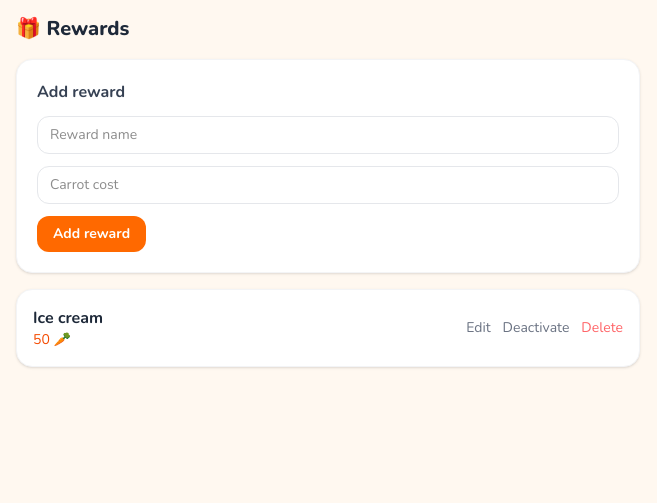
Test case: RewardManager errors › clears errors when changing the edit Reward name
Expected: the text "Ice cream" is shown, [33,307,103,329]
Type "Screen time" into the field with placeholder "Reward name" at (328, 135), box [37,116,619,154]
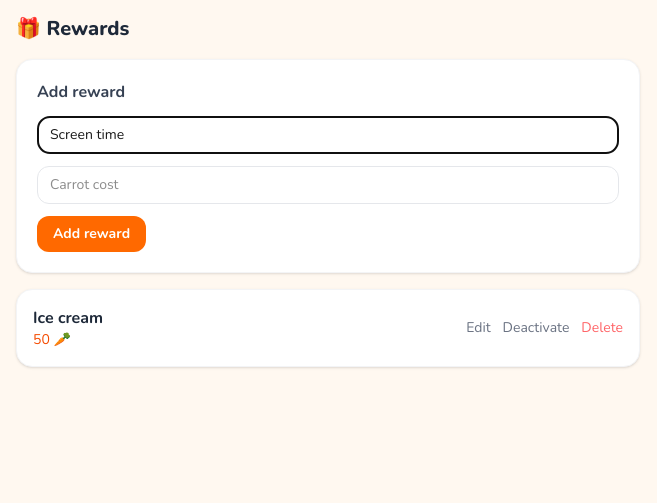
Type "20" into the number field with placeholder "Carrot cost" at (328, 185), box [37,166,619,204]
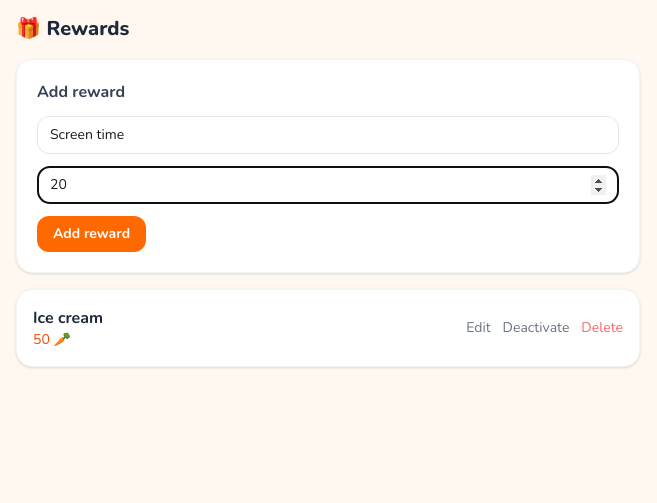
Click the button "Edit" at (478, 328), box [466,318,491,338]
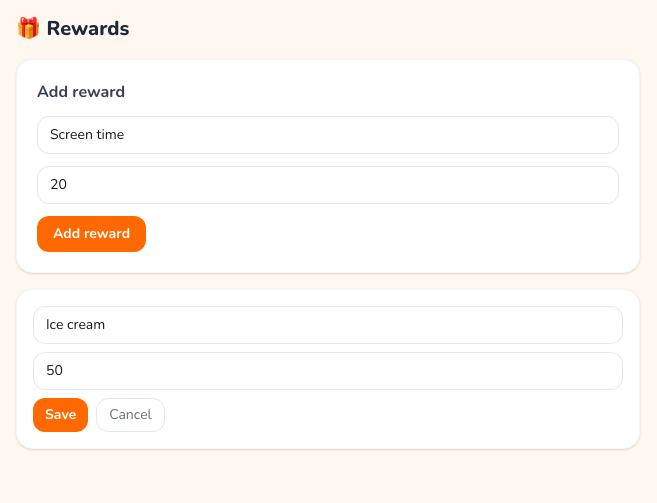
Click the button "Add reward" at (92, 234), box [37,216,146,252]
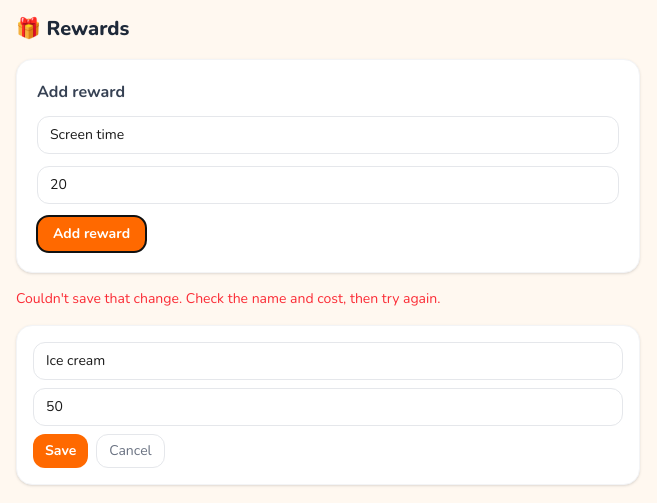
Expected: the message "Couldn't save that change. Check the name and cost, then try again." is shown, [16,289,440,308]
Clear the field named "Reward name" at (328, 361), box [33,342,623,380]
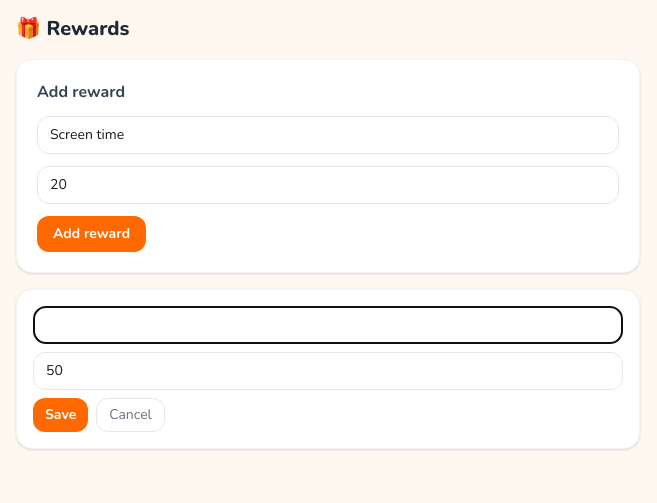
Expected: the message "Couldn't save that change. Check the name and cost, then try again." is gone
